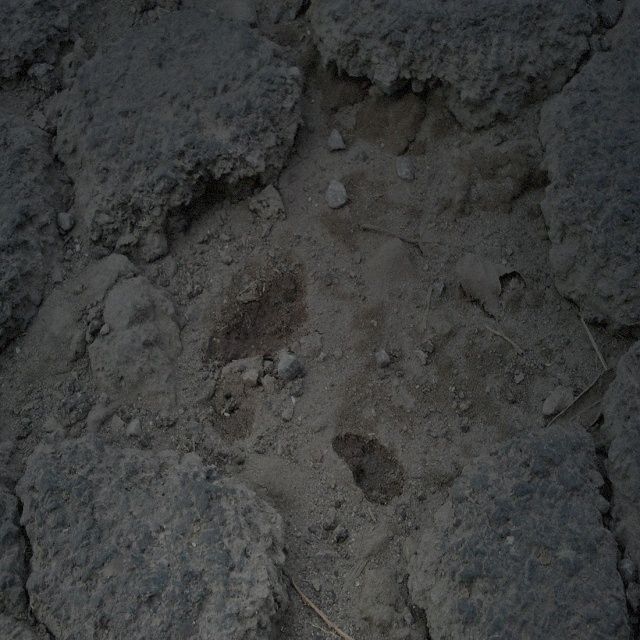pothole: (102, 59, 614, 520)
